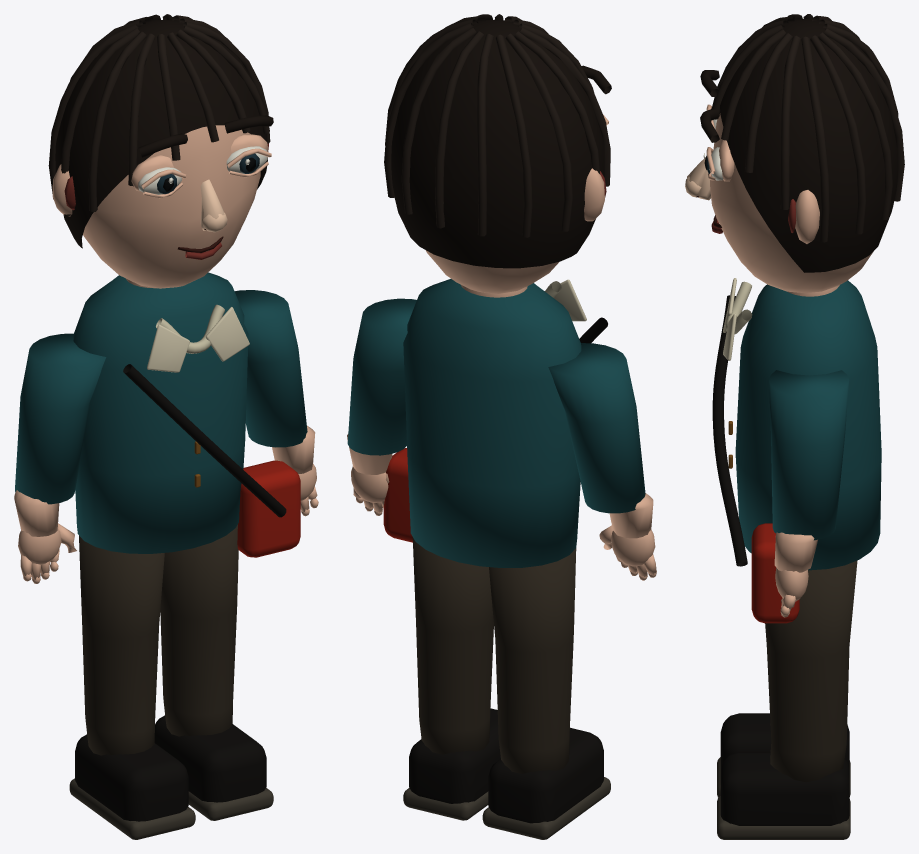
File: patient-31.glb
3 views of the same model, side by side, from view 1: azimuth 30°, elevation 25°; view 2: azimuth 150°, elevation 25°; view 3: azimuth 270°, elevation 25° (orthographic).
Parts seen in each view (by area): view 1: Body, Head, LegL, LegR, ArmL, ArmR; view 2: Head, Body, LegL, LegR, ArmL, ArmR; view 3: Head, Body, LegR, ArmR, LegL.
Part boxes in pixels (x1,y1,x2,y2): Body: [73, 272, 300, 557]; Head: [48, 14, 273, 288]; LegL: [69, 535, 195, 839]; LegR: [154, 524, 273, 820]; ArmL: [14, 333, 106, 583]; ArmR: [234, 290, 318, 516]; Head: [384, 14, 611, 293]; Body: [383, 279, 607, 567]; LegL: [482, 548, 610, 839]; LegR: [403, 537, 500, 820]; ArmL: [548, 343, 656, 580]; ArmR: [347, 298, 416, 515]; Head: [685, 14, 904, 292]; Body: [712, 278, 881, 623]; LegR: [717, 560, 857, 839]; ArmR: [769, 370, 849, 617]; LegL: [717, 713, 850, 797].
Bounding box in the file's own units: 0.5663 × 1.41 × 0.3589.
